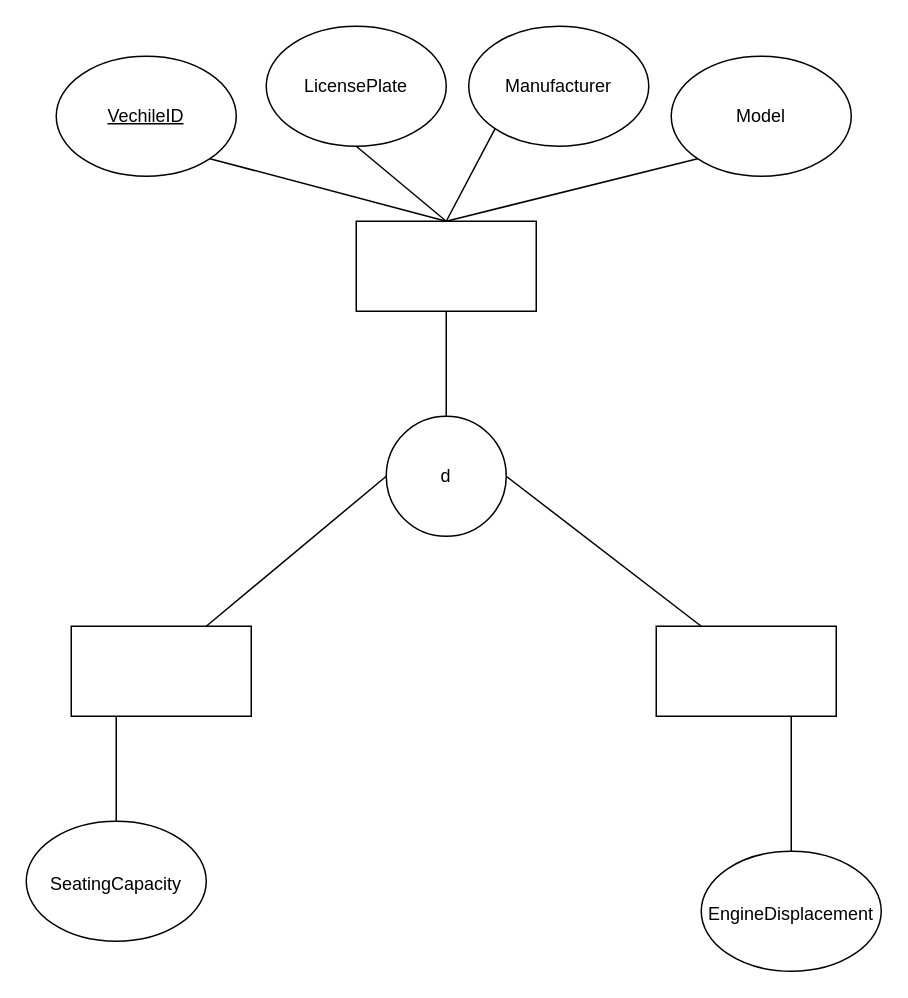
Some shapes in this 908 by 998 pixel diagram are drawn without their labels. The centre of each missing label's shape, as x and y in pixels:
"CAR" belongs at point (160, 670).
"Motorcycle" belongs at point (745, 670).
"Vechicle" belongs at point (445, 265).
